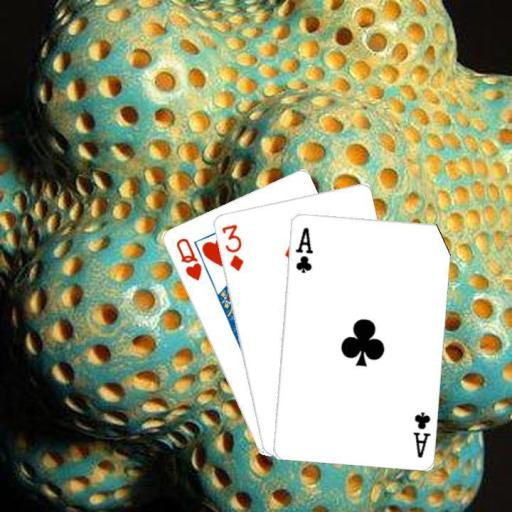3D: (218, 221, 245, 273)
AC: (292, 224, 315, 274), (410, 408, 432, 459)
QH: (172, 234, 203, 282)
